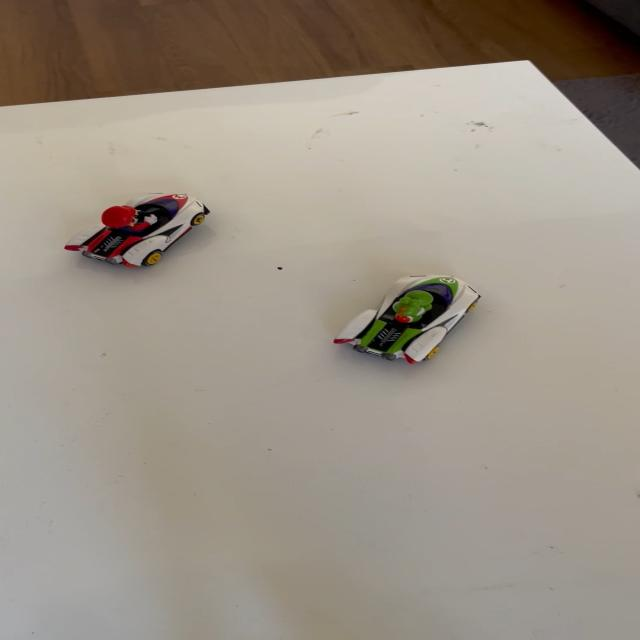mario: (48, 188, 224, 279)
yoshi: (318, 270, 499, 380)
